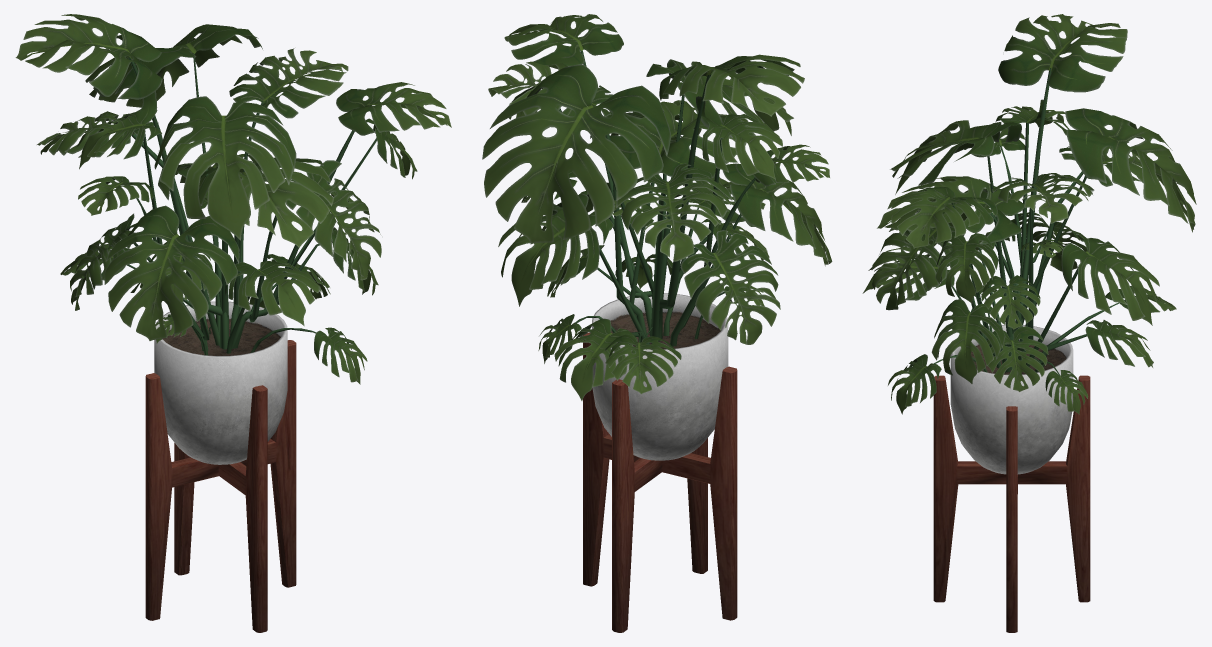
File: cvetok_1.glb
The picture shows the model from 3 angles, left to right: view 1: azimuth 30°, elevation 25°; view 2: azimuth 150°, elevation 25°; view 3: azimuth 270°, elevation 25°; orthographic projection. The views are drawn at different scales.
Parts seen in each view (by area): view 1: Pianta_4; view 2: Pianta_4; view 3: Pianta_4.
Boxes of the visible parts, left/top/right/bottom form: Pianta_4: left=15, top=14, right=451, bottom=632; Pianta_4: left=482, top=14, right=832, bottom=632; Pianta_4: left=862, top=14, right=1196, bottom=632.
Bounding box in the file's own units: 1.01 × 1.58 × 0.9162.
Materials: 3 (2 with a texture image).
